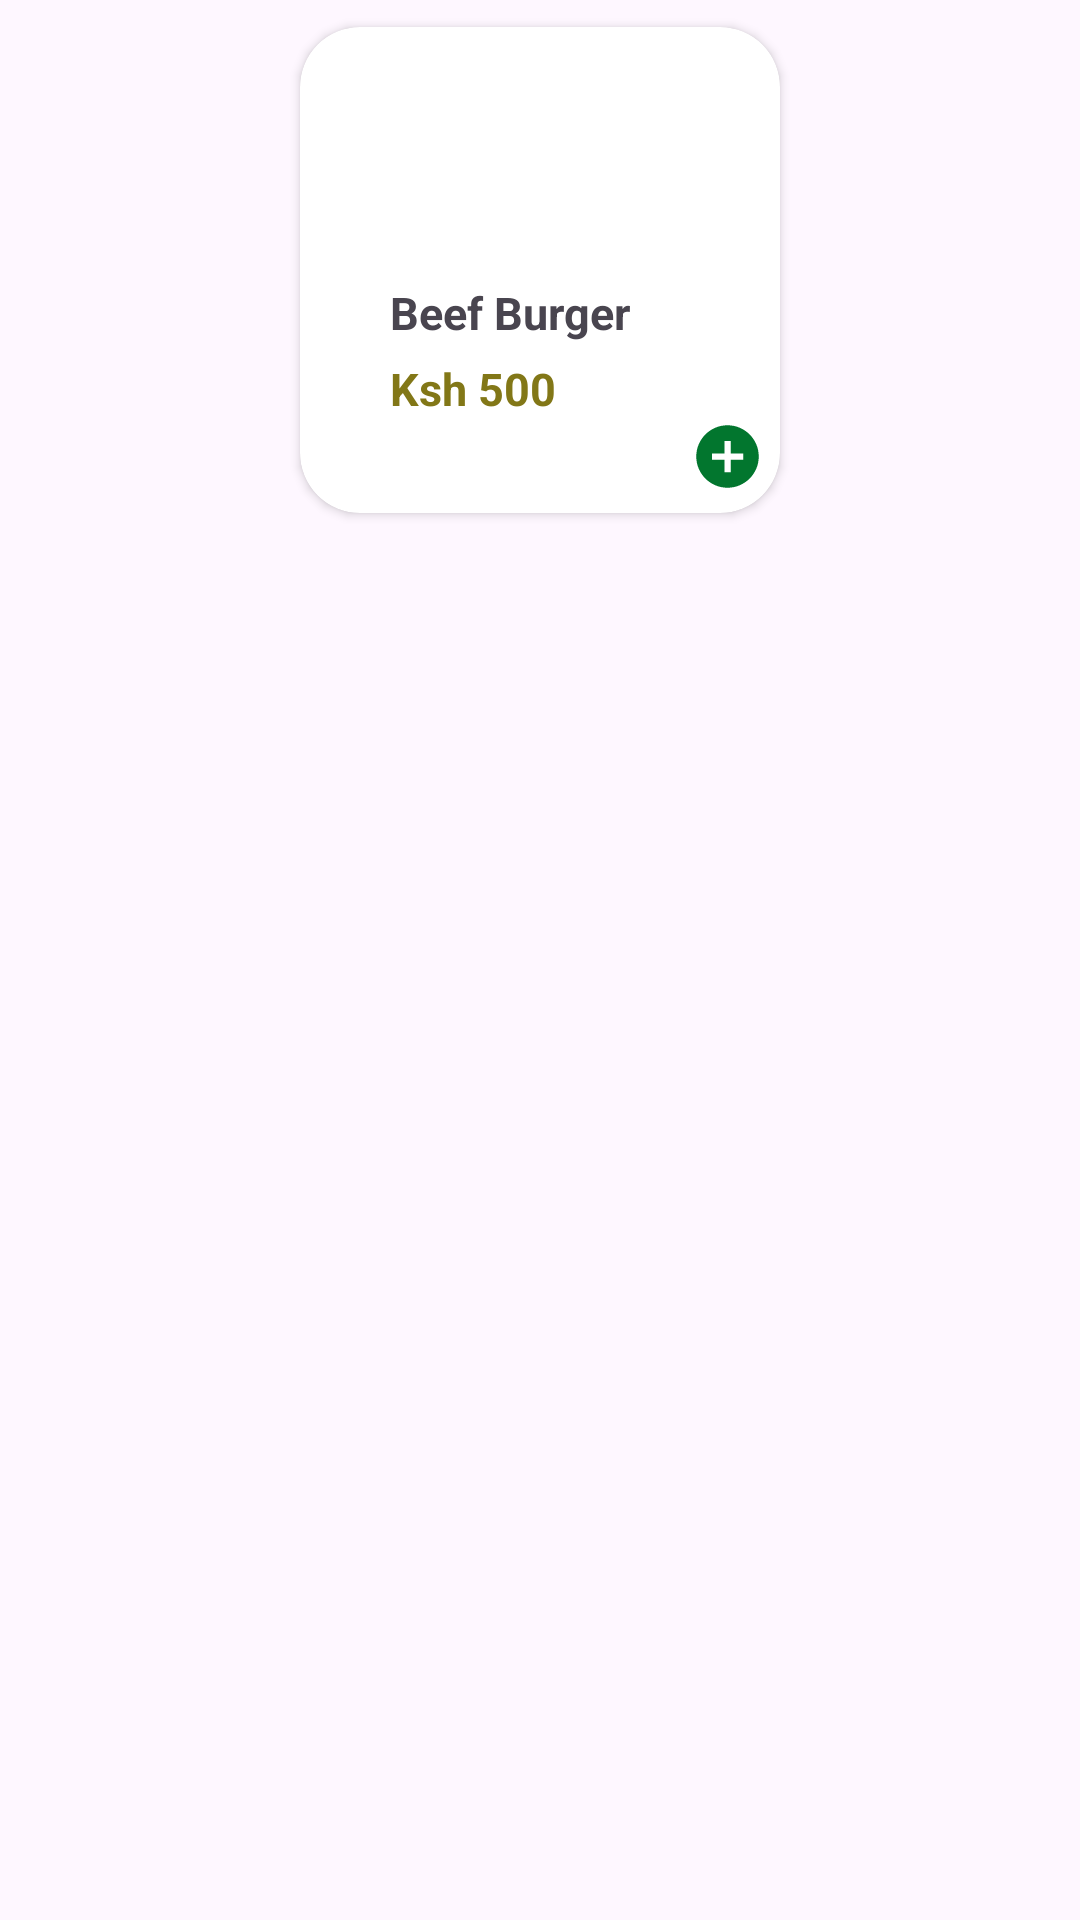

Icons on this 1080x1920 Android screen, each with the point to tap as point (x, y):
add: point (727, 456)
